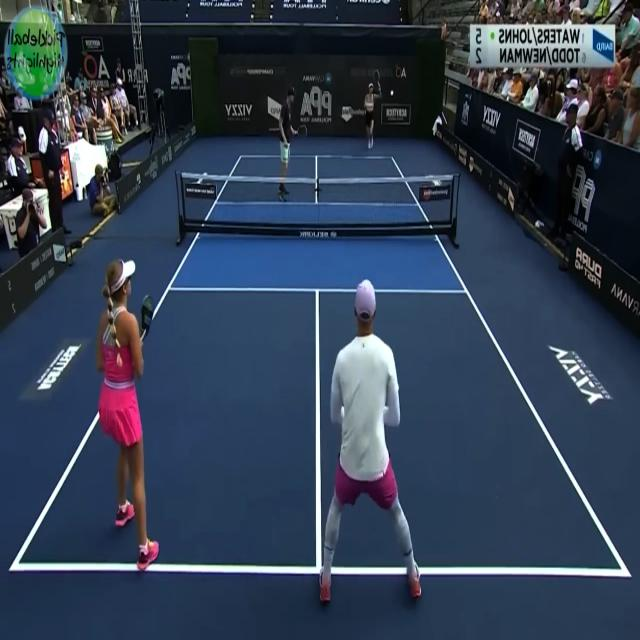Pickleball: (390, 88, 395, 99)
